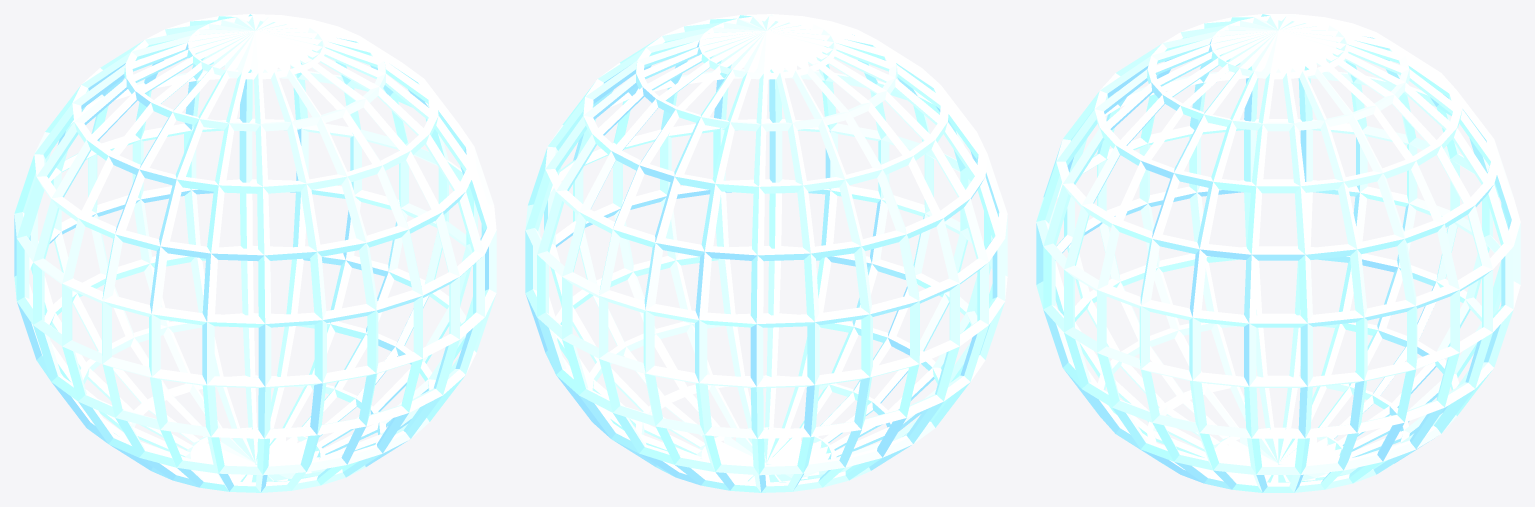
Rendered from Glow_field.glb.
The picture shows the model from 3 angles, left to right: view 1: azimuth 30°, elevation 25°; view 2: azimuth 150°, elevation 25°; view 3: azimuth 270°, elevation 25°; orthographic projection.
Visible parts, largest first — view 1: Sphere; view 2: Sphere; view 3: Sphere.
Boxes of the visible parts, left/top/right/bottom form: Sphere: left=14, top=14, right=496, bottom=492; Sphere: left=525, top=14, right=1007, bottom=492; Sphere: left=1036, top=14, right=1520, bottom=492.
Bounding box in the file's own units: 8.29 × 8.48 × 8.35.
